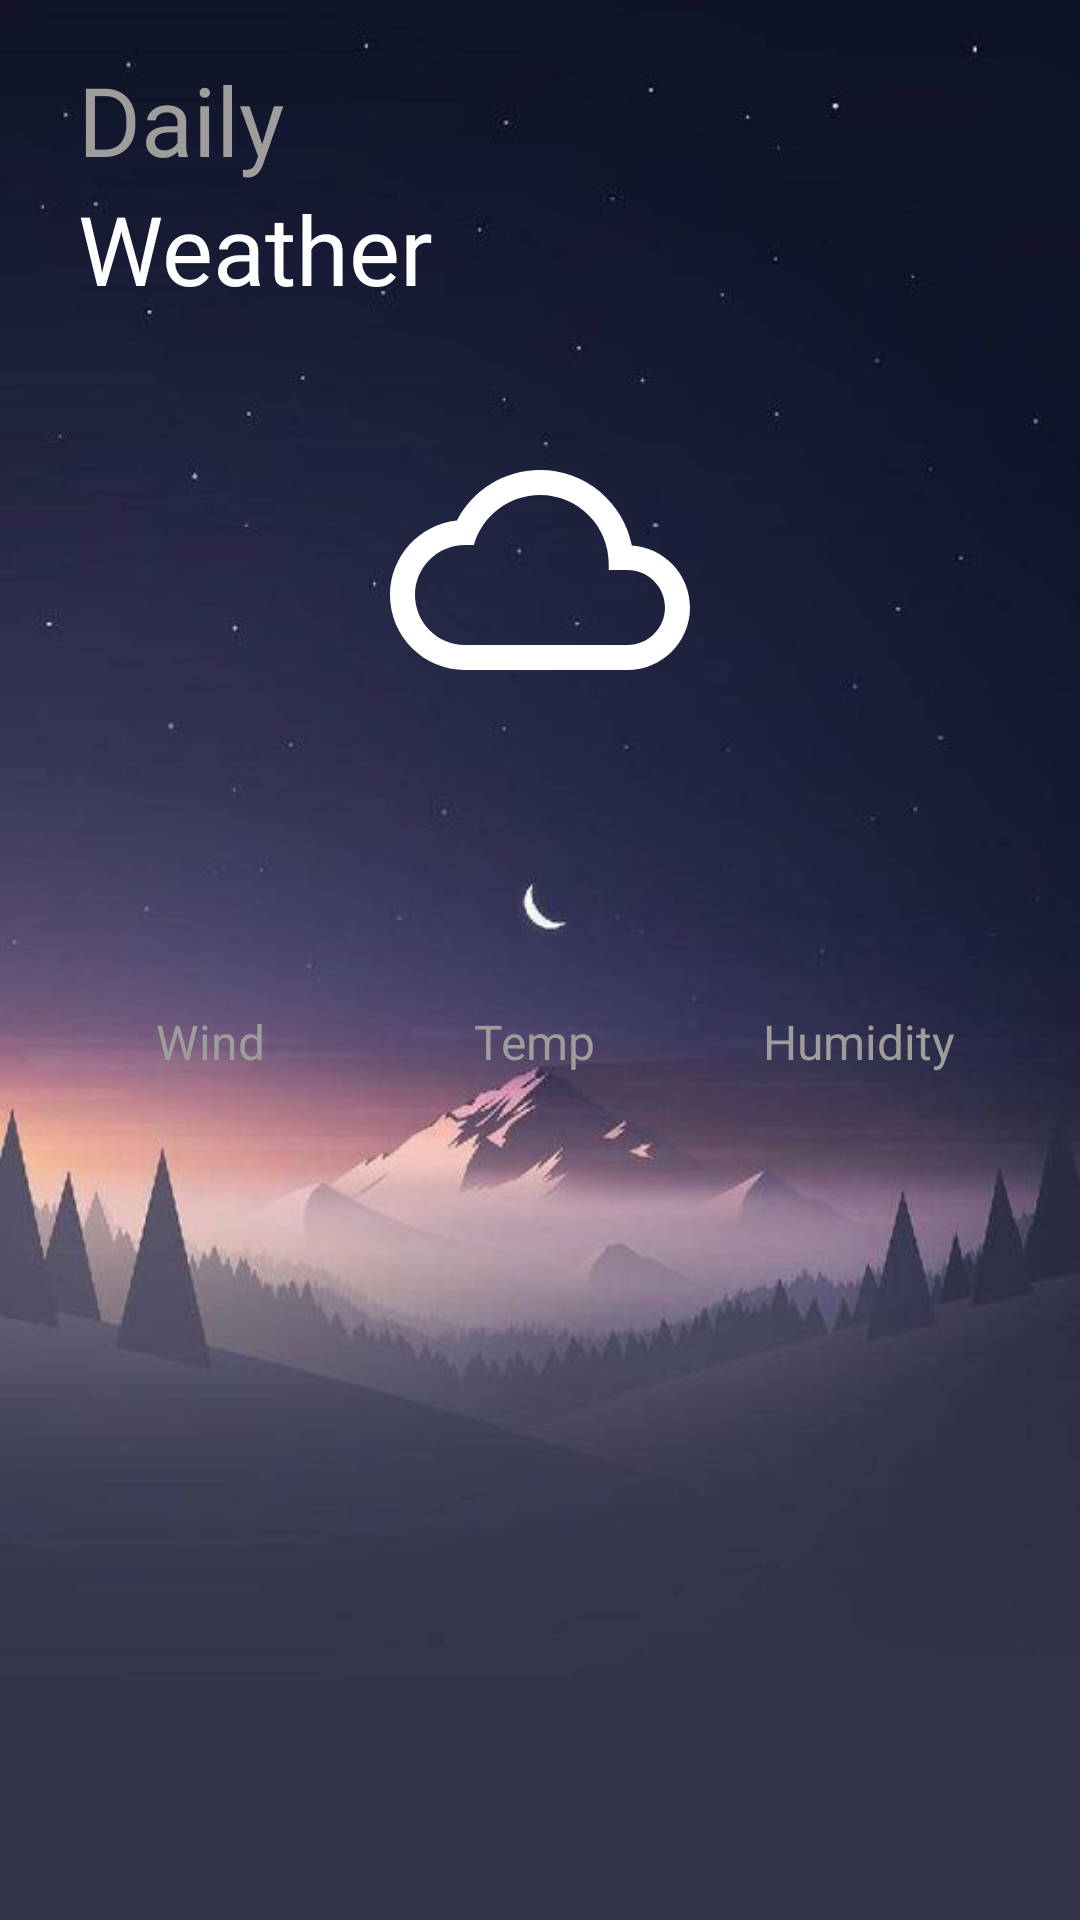

Named icons in this screenshot (1080w x 1920h) and their bounding boxes, [x1=x1, y1=y1, x2=x2, y2=y2]:
cloud queue: [x1=390, y1=442, x2=690, y2=670]
